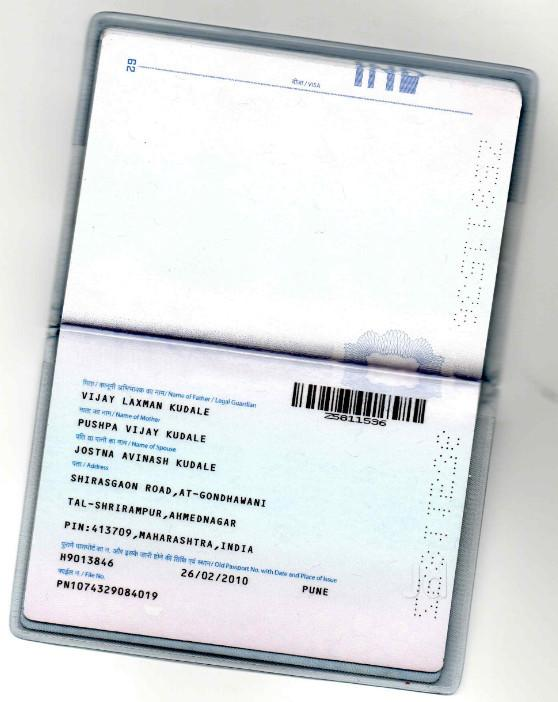File_no: (48, 575, 170, 608)
address: (55, 469, 279, 562)
father_name: (64, 385, 225, 426)
mother_name: (64, 412, 218, 451)
old_passport_details: (41, 544, 352, 606)
passport_no: (319, 409, 393, 433)
spouse_name: (59, 438, 228, 481)
